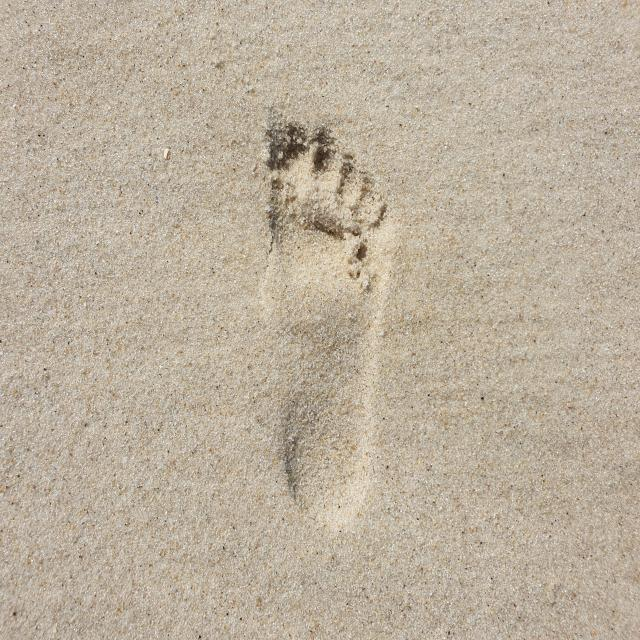human_footprint: (251, 110, 400, 528)
